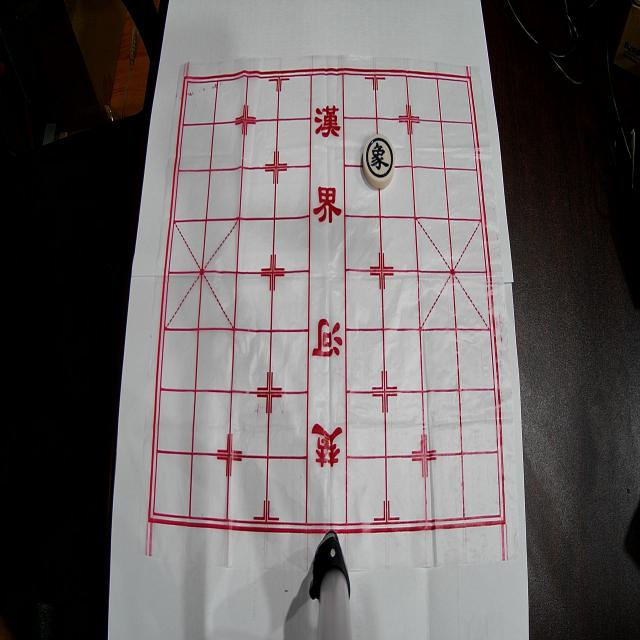black-elephant: (363, 134, 395, 188)
